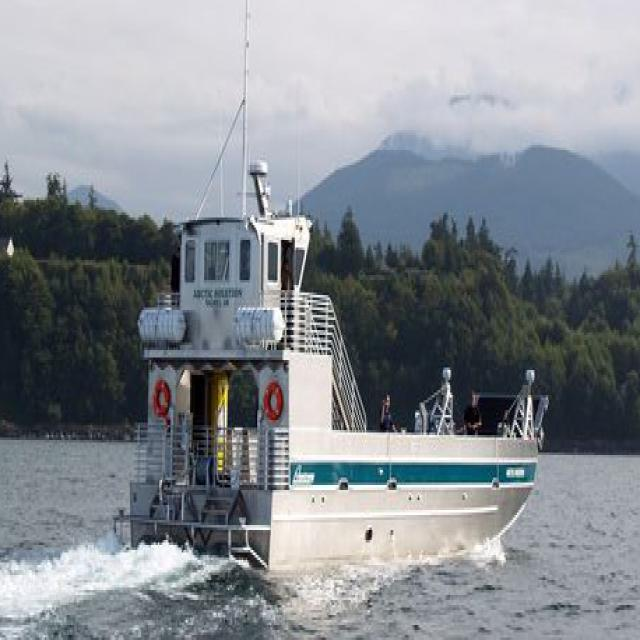houseboat: (128, 194, 540, 574)
